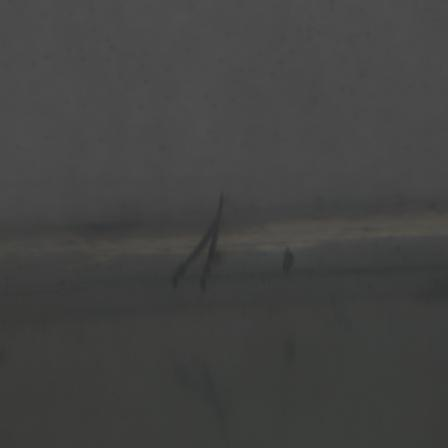Jentik-Nyamuk: (166, 187, 228, 293)
